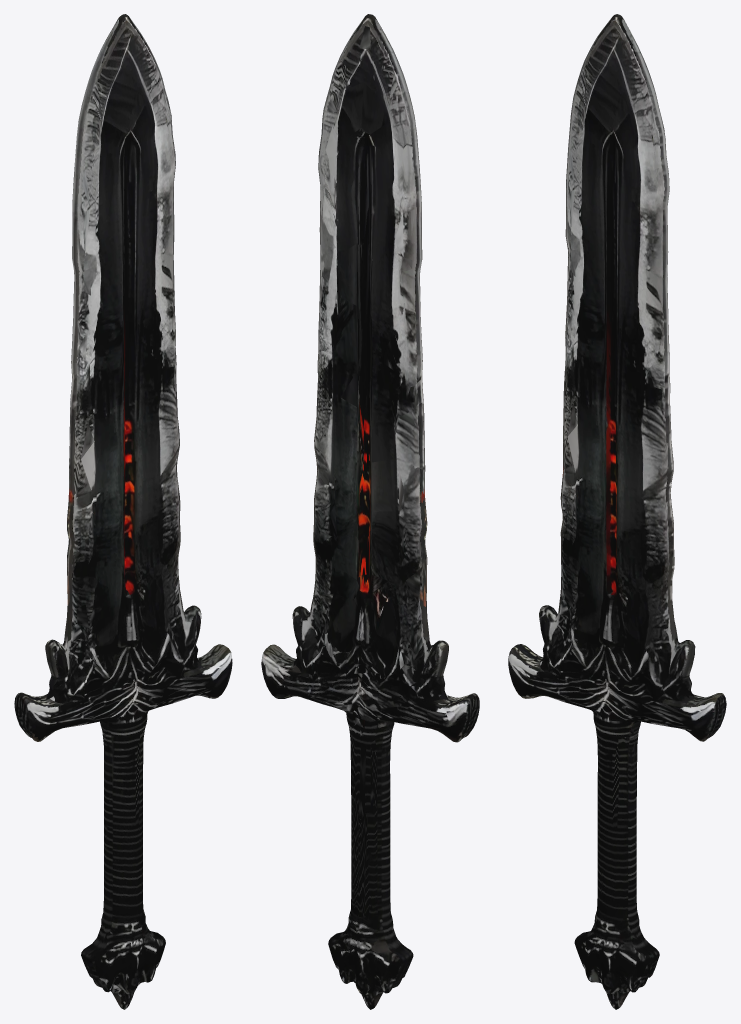
The model's file is warden_greatsword.glb.
3 renders of one model, left to right at view 1: azimuth 30°, elevation 25°; view 2: azimuth 150°, elevation 25°; view 3: azimuth 330°, elevation 25°, orthographic.
Parts seen in each view (by area): view 1: WardenGreatsword; view 2: WardenGreatsword; view 3: WardenGreatsword.
Boxes of the visible parts, x1=… form: WardenGreatsword: x1=14, y1=14, x2=232, y2=1009; WardenGreatsword: x1=261, y1=14, x2=479, y2=1009; WardenGreatsword: x1=508, y1=14, x2=726, y2=1009.
Bounding box in the file's own units: 0.3836 × 1.75 × 0.0747.
1 material, 1 textured.
